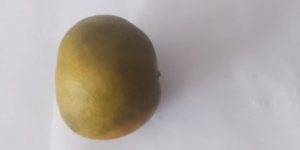BAD: (53, 13, 164, 140)
